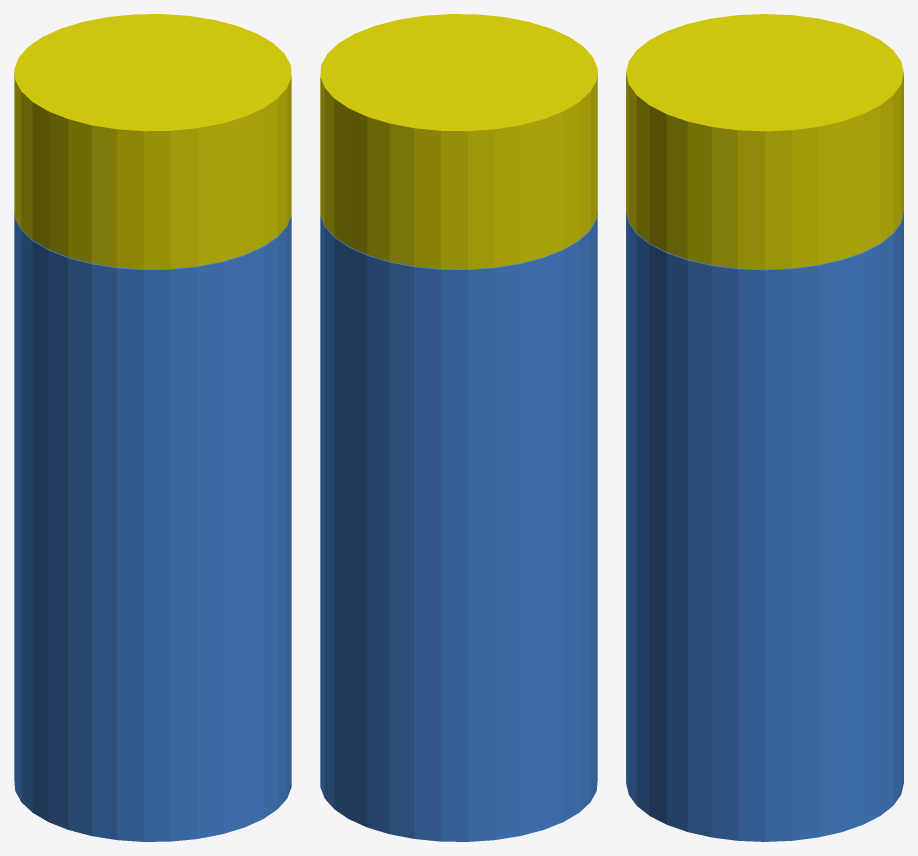
The model's file is Fence.fbx.
3 renders of one model, left to right at view 1: azimuth 30°, elevation 25°; view 2: azimuth 150°, elevation 25°; view 3: azimuth 270°, elevation 25°, orthographic.
Visible parts, largest first — view 1: Cylinder.002, Cylinder.003; view 2: Cylinder.002, Cylinder.003; view 3: Cylinder.002, Cylinder.003.
Boxes of the visible parts, x1,y1,x2,y2 form: Cylinder.002: (14, 209, 291, 841); Cylinder.003: (14, 14, 291, 269); Cylinder.002: (320, 209, 597, 841); Cylinder.003: (320, 14, 597, 269); Cylinder.002: (626, 211, 903, 841); Cylinder.003: (626, 14, 903, 269).
Size of the model in its own units: 200 by 564 by 200.
